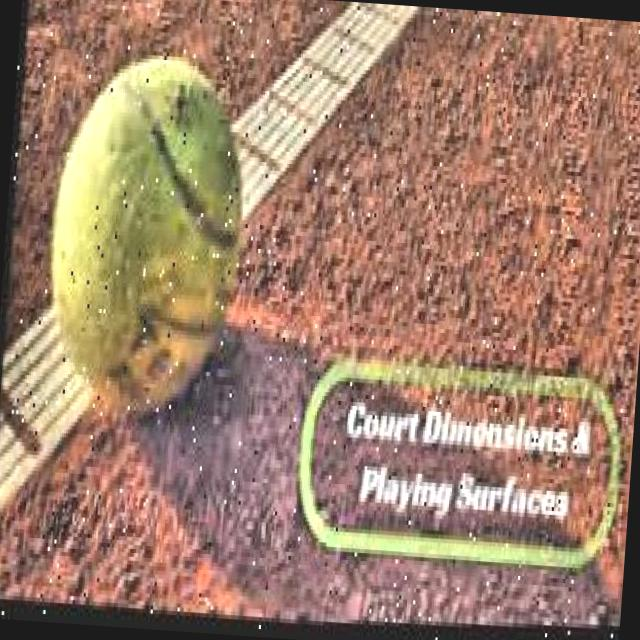Tennis Ball: (25, 52, 288, 450)
